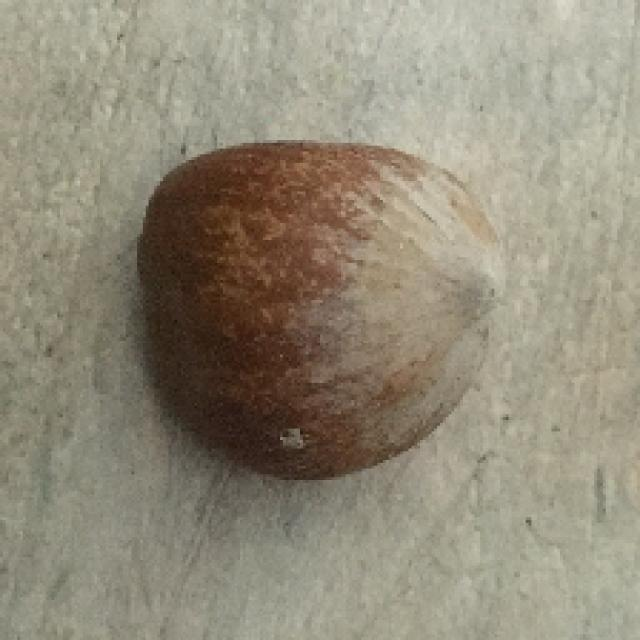qualityHazelnut: (126, 130, 524, 488)
